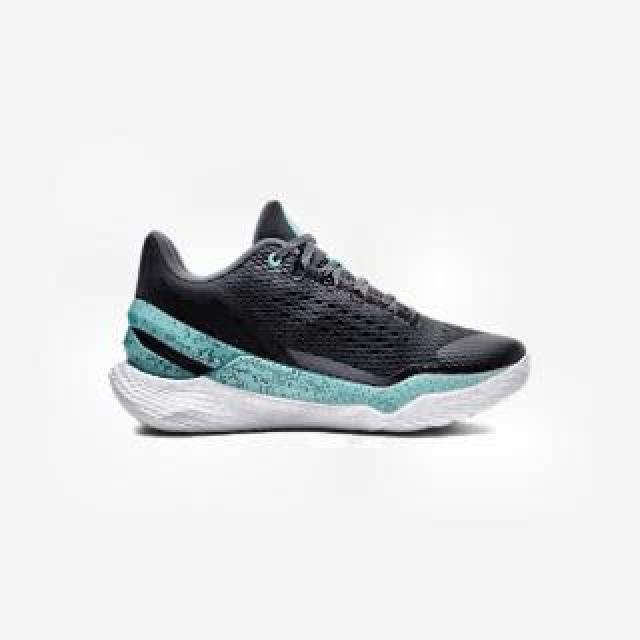shoes: (109, 200, 527, 434)
